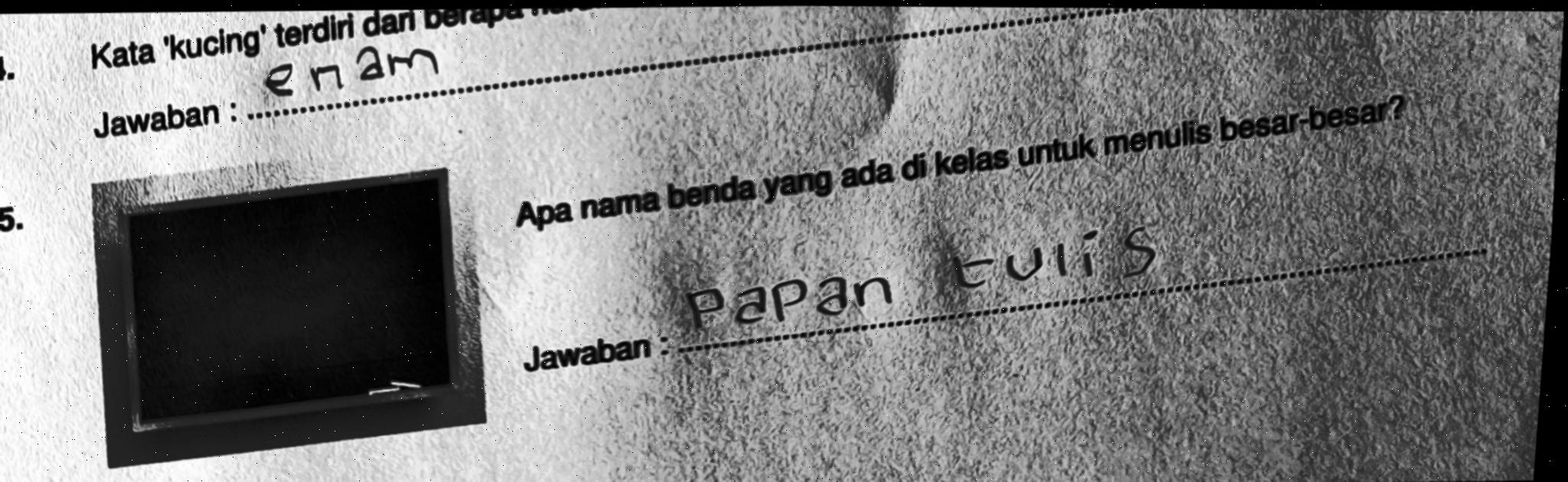jawaban: (952, 219, 1156, 289), (684, 265, 894, 331), (265, 31, 440, 99)
